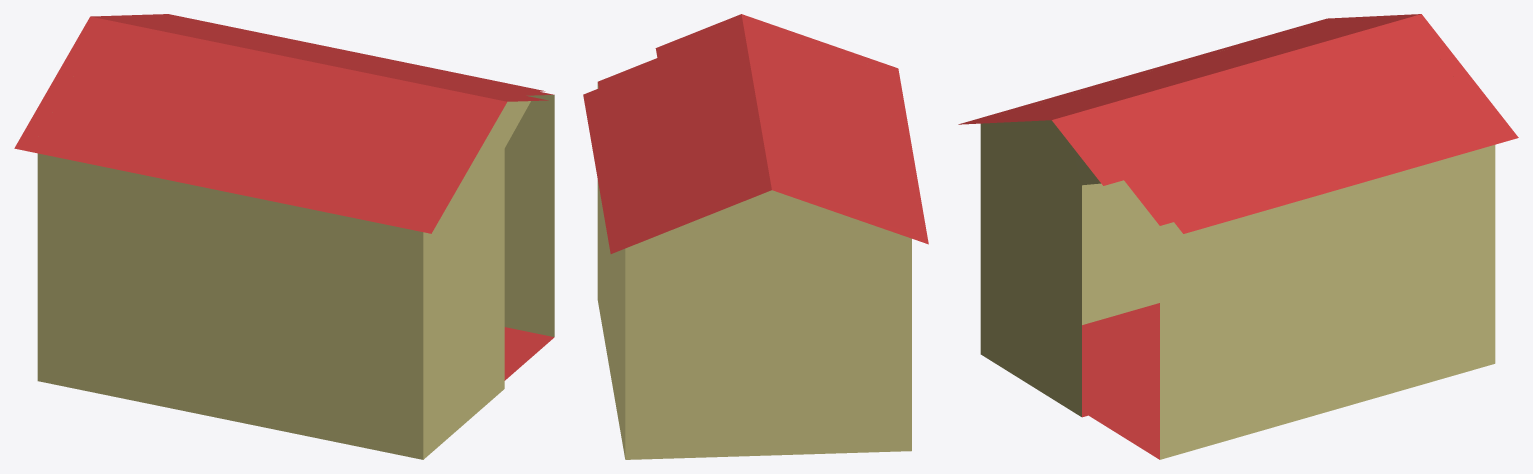
3 views of the same model, side by side, from view 1: azimuth 30°, elevation 25°; view 2: azimuth 150°, elevation 25°; view 3: azimuth 270°, elevation 25° (orthographic). The views are drawn at different scales.
Bounding box in the file's own units: 15.06 × 16.58 × 9.48.
